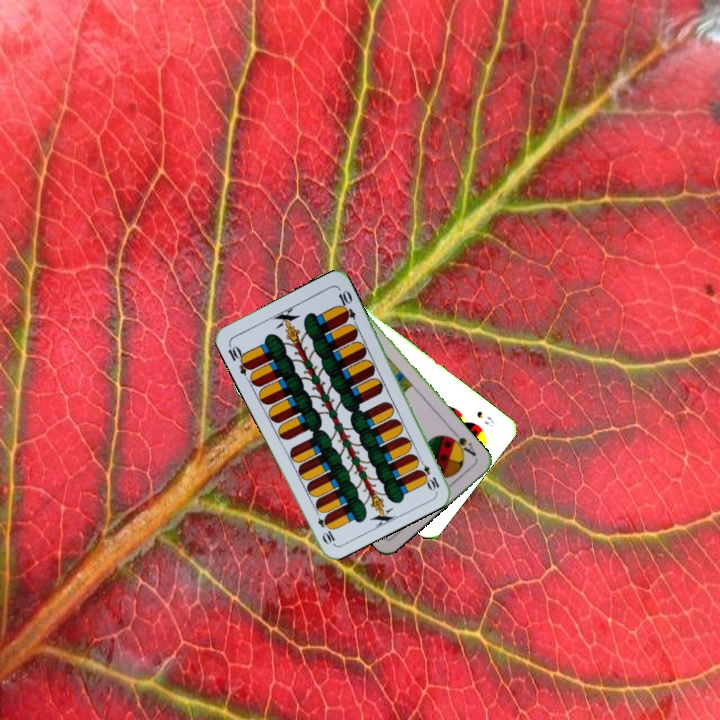E10: (224, 340, 254, 378), (414, 454, 442, 493)
S8: (472, 407, 497, 430)
SA: (444, 427, 479, 459)
